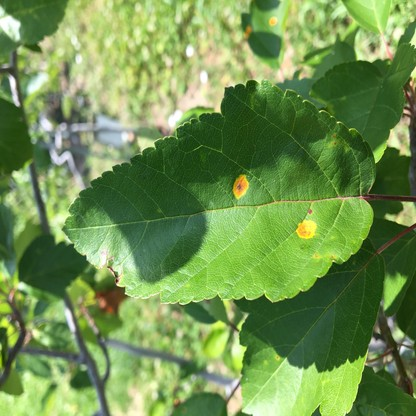rust: (297, 221, 317, 239), (233, 176, 248, 198), (268, 15, 277, 26), (244, 23, 251, 35), (313, 251, 319, 258)
